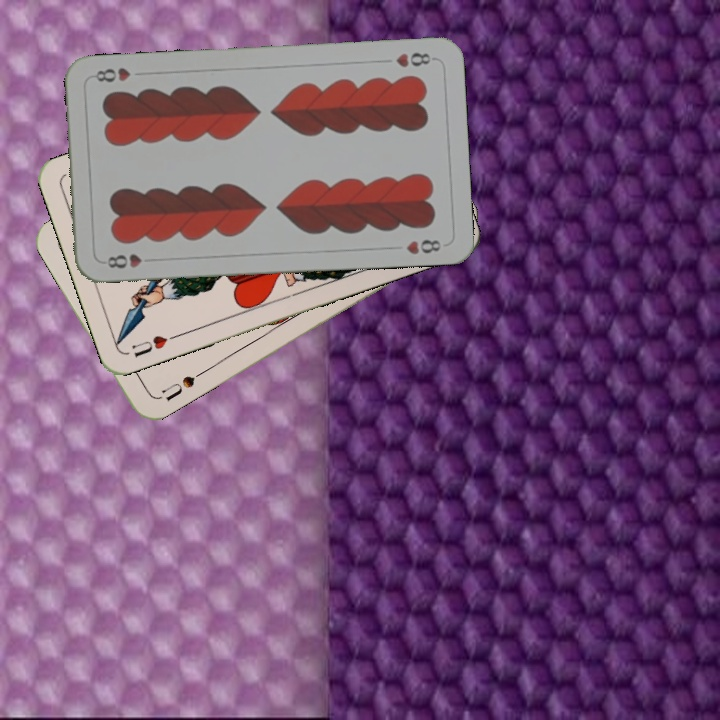H8: (103, 250, 158, 271), (392, 48, 438, 70)
HU: (127, 330, 181, 360)
SU: (157, 367, 206, 404)
